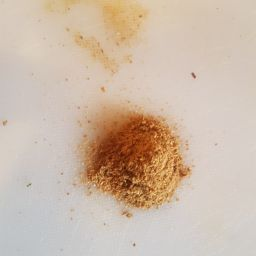Corriander powder: (42, 62, 221, 223), (72, 93, 200, 223)
